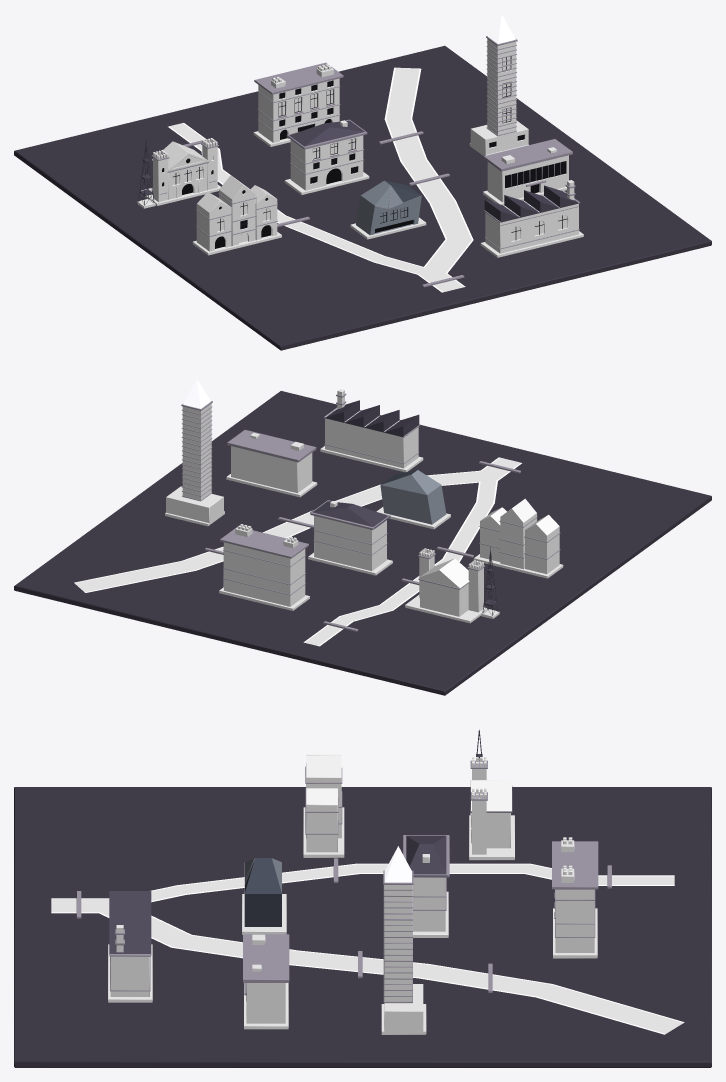
Rendered from lyon.glb.
3 renders of one model, top to bottom at view 1: azimuth 30°, elevation 25°; view 2: azimuth 150°, elevation 25°; view 3: azimuth 270°, elevation 25°, orthographic. The views are drawn at different scales.
Visible parts, largest first — view 1: carte.planche, carte.eau, carte.part-dieu.pierre.0, carte.croix-rousse.pierre.0, carte.gerland.pierre.0, carte.fourviere.pierre.0, carte.traboules.pierre.0, carte.confluence.metal, carte.terrain.pierre.0, carte.gerland.toiture, carte.vieux-lyon.pierre.0, carte.croix-rousse.corniche (+9 smaller); view 2: carte.planche, carte.eau, carte.croix-rousse.pierre.0, carte.part-dieu.pierre.0, carte.fourviere.pierre.0, carte.gerland.pierre.0, carte.traboules.pierre.0, carte.terrain.pierre.0, carte.confluence.metal, carte.vieux-lyon.pierre.0, carte.vieux-lyon.pierre.1, carte.gerland.toiture (+9 smaller); view 3: carte.planche, carte.eau, carte.part-dieu.pierre.0, carte.fourviere.pierre.0, carte.croix-rousse.pierre.0, carte.rives, carte.confluence.metal, carte.gerland.toiture, carte.croix-rousse.corniche, carte.terrain.corniche, carte.vieux-lyon.pierre.2, carte.terrain.pierre.0 (+12 smaller).
Boxes of the visible parts, left/top/right/bottom form: carte.planche: left=14, top=45, right=711, bottom=350; carte.eau: left=169, top=67, right=471, bottom=291; carte.part-dieu.pierre.0: left=470, top=39, right=528, bottom=154; carte.croix-rousse.pierre.0: left=258, top=64, right=339, bottom=142; carte.gerland.pierre.0: left=485, top=180, right=578, bottom=253; carte.fourviere.pierre.0: left=152, top=138, right=217, bottom=202; carte.traboules.pierre.0: left=290, top=120, right=363, bottom=190; carte.confluence.metal: left=356, top=180, right=421, bottom=235; carte.terrain.pierre.0: left=487, top=147, right=568, bottom=202; carte.gerland.toiture: left=484, top=185, right=579, bottom=222; carte.vieux-lyon.pierre.0: left=196, top=192, right=231, bottom=251; carte.croix-rousse.corniche: left=254, top=62, right=343, bottom=131; carte.planche: left=14, top=391, right=711, bottom=695; carte.eau: left=74, top=457, right=520, bottom=645; carte.croix-rousse.pierre.0: left=223, top=524, right=305, bottom=606; carte.part-dieu.pierre.0: left=166, top=403, right=223, bottom=522; carte.fourviere.pierre.0: left=418, top=548, right=483, bottom=616; carte.gerland.pierre.0: left=325, top=389, right=418, bottom=468; carte.traboules.pierre.0: left=314, top=501, right=386, bottom=570; carte.terrain.pierre.0: left=231, top=433, right=312, bottom=493; carte.confluence.metal: left=380, top=470, right=446, bottom=524; carte.vieux-lyon.pierre.0: left=525, top=514, right=559, bottom=574; carte.vieux-lyon.pierre.1: left=500, top=498, right=536, bottom=569; carte.gerland.toiture: left=325, top=400, right=419, bottom=436; carte.planche: left=14, top=787, right=711, bottom=1067; carte.eau: left=51, top=864, right=682, bottom=1033; carte.part-dieu.pierre.0: left=384, top=885, right=423, bottom=1031; carte.fourviere.pierre.0: left=470, top=757, right=511, bottom=854; carte.croix-rousse.pierre.0: left=555, top=837, right=594, bottom=952; carte.rives: left=51, top=863, right=684, bottom=1034; carte.confluence.metal: left=244, top=858, right=281, bottom=926; carte.gerland.toiture: left=109, top=891, right=151, bottom=955; carte.croix-rousse.corniche: left=552, top=841, right=598, bottom=937; carte.terrain.corniche: left=243, top=934, right=289, bottom=1001; carte.vieux-lyon.pierre.2: left=306, top=788, right=337, bottom=852; carte.terrain.pierre.0: left=246, top=934, right=285, bottom=1023.
Bounding box in the file's own units: 70 × 21.6 × 75.
